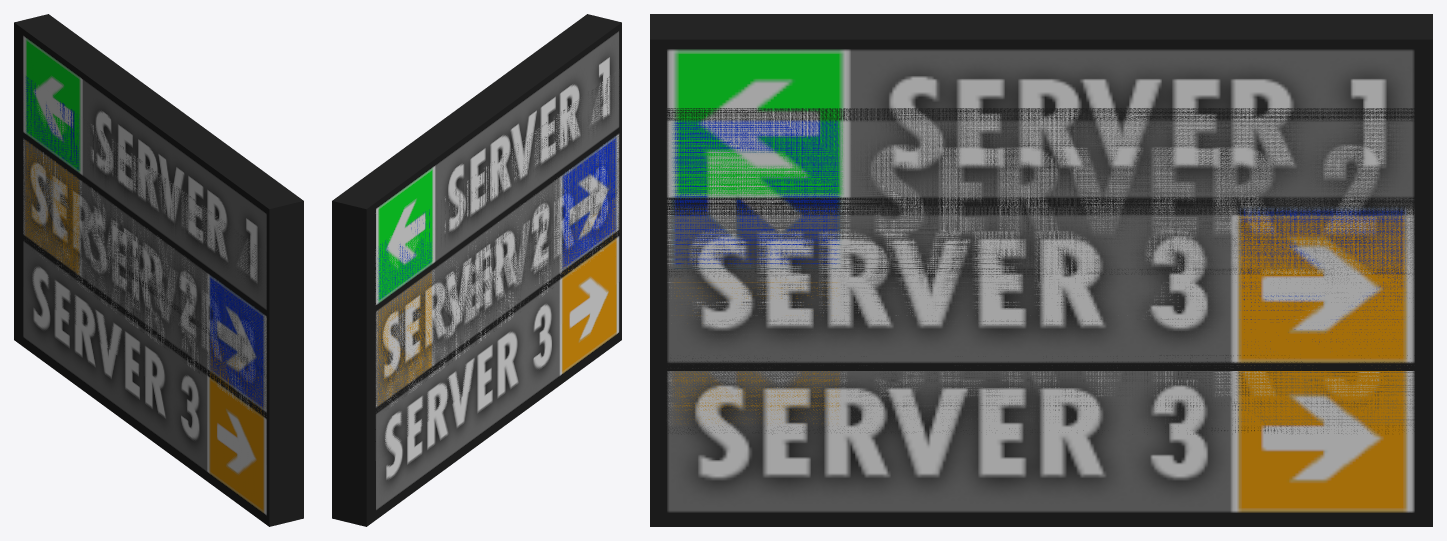
The model's file is server_signage.glb.
3 renders of one model, left to right at view 1: azimuth 30°, elevation 25°; view 2: azimuth 150°, elevation 25°; view 3: azimuth 270°, elevation 25°, orthographic. The views are drawn at different scales.
Visible parts, largest first — view 1: ServerSigns1, ServerSigns2, ServerSigns3; view 2: ServerSigns1, ServerSigns2, ServerSigns3; view 3: ServerSigns1, ServerSigns3, ServerSigns2.
Part boxes in pixels (x1,y1,x2,y2): ServerSigns1: (14,14,303,526); ServerSigns2: (14,69,303,466); ServerSigns3: (14,133,303,424); ServerSigns1: (332,14,621,526); ServerSigns2: (332,67,621,465); ServerSigns3: (332,135,620,423); ServerSigns1: (650,14,1432,526); ServerSigns3: (650,206,1432,370); ServerSigns2: (650,108,1432,434).
Size of the model in its own units: 0.0625 by 0.55 by 0.801.
Materials: 3 (3 with a texture image).
